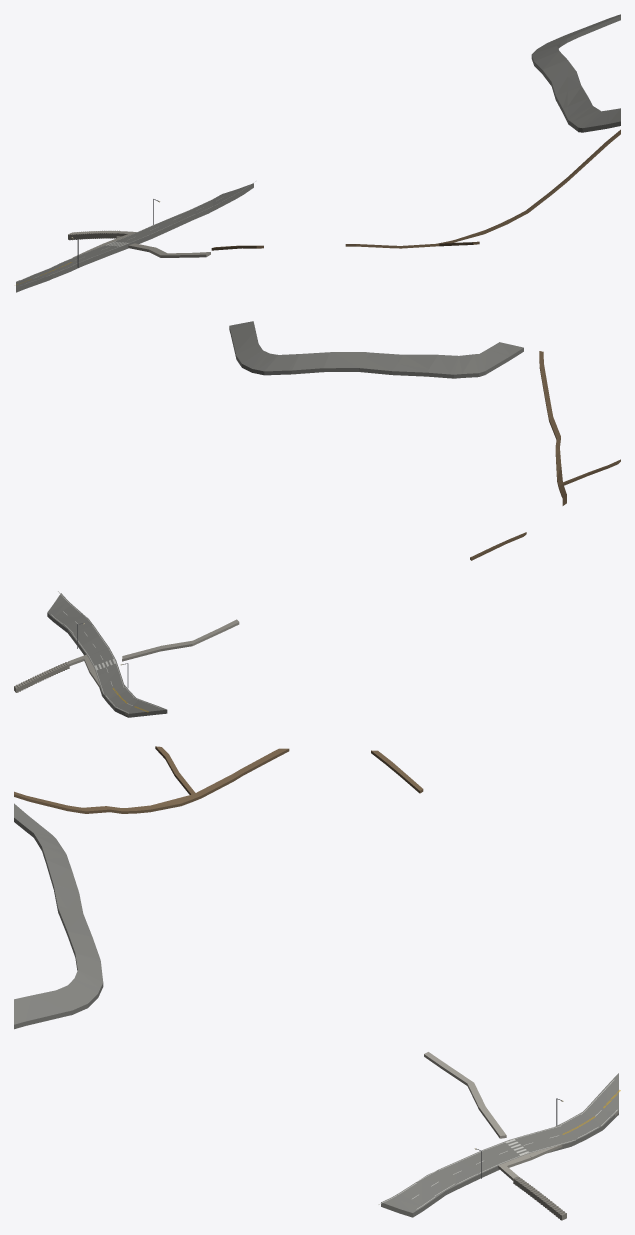
The model's file is 18-218880-118957.2cfe8dc3.glb.
The picture shows the model from 3 angles, top to bottom: view 1: azimuth 90°, elevation 25°; view 2: azimuth 150°, elevation 25°; view 3: azimuth 270°, elevation 25°; orthographic projection. The views are drawn at different scales.
Size of the model in its own units: 148 by 71.08 by 146.
